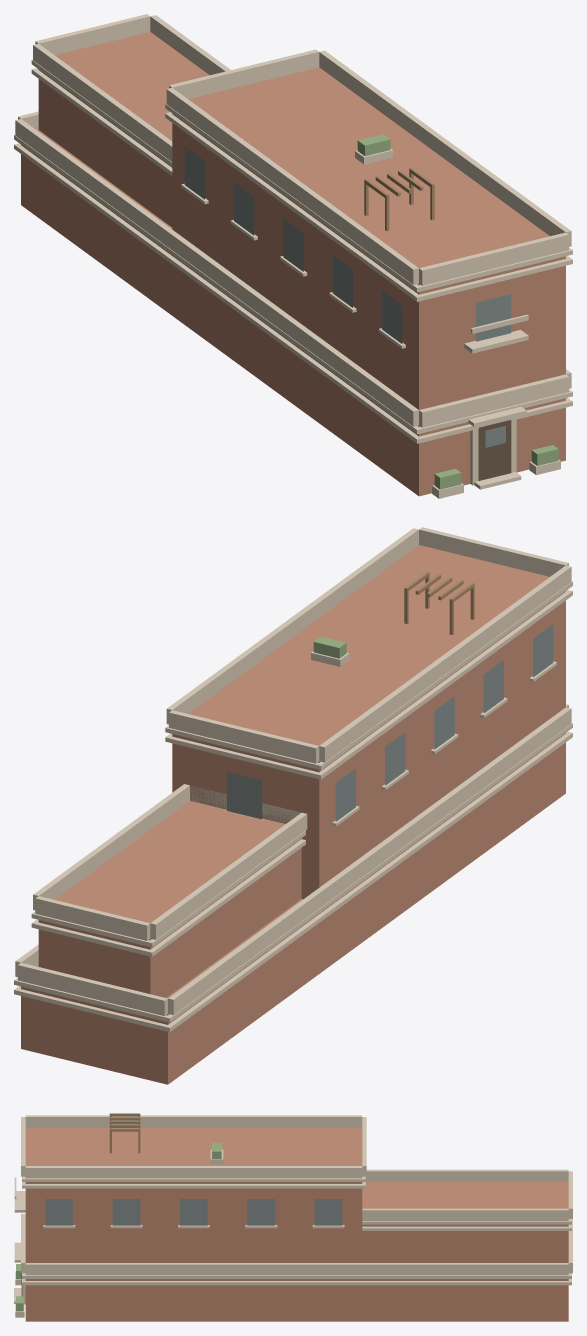
Rendered from residential_1x4_court.glb.
The picture shows the model from 3 angles, top to bottom: view 1: azimuth 30°, elevation 25°; view 2: azimuth 150°, elevation 25°; view 3: azimuth 270°, elevation 25°; orthographic projection. The views are drawn at different scales.
Parts seen in each view (by area): view 1: residential_1x4_court_0; view 2: residential_1x4_court_0; view 3: residential_1x4_court_0.
Boxes of the visible parts, x1,y1,x2,y2 form: residential_1x4_court_0: (14,14,572,498); residential_1x4_court_0: (14,527,572,1084); residential_1x4_court_0: (14,1113,572,1321).
Size of the model in its own units: 7 by 10.5 by 31.4.
